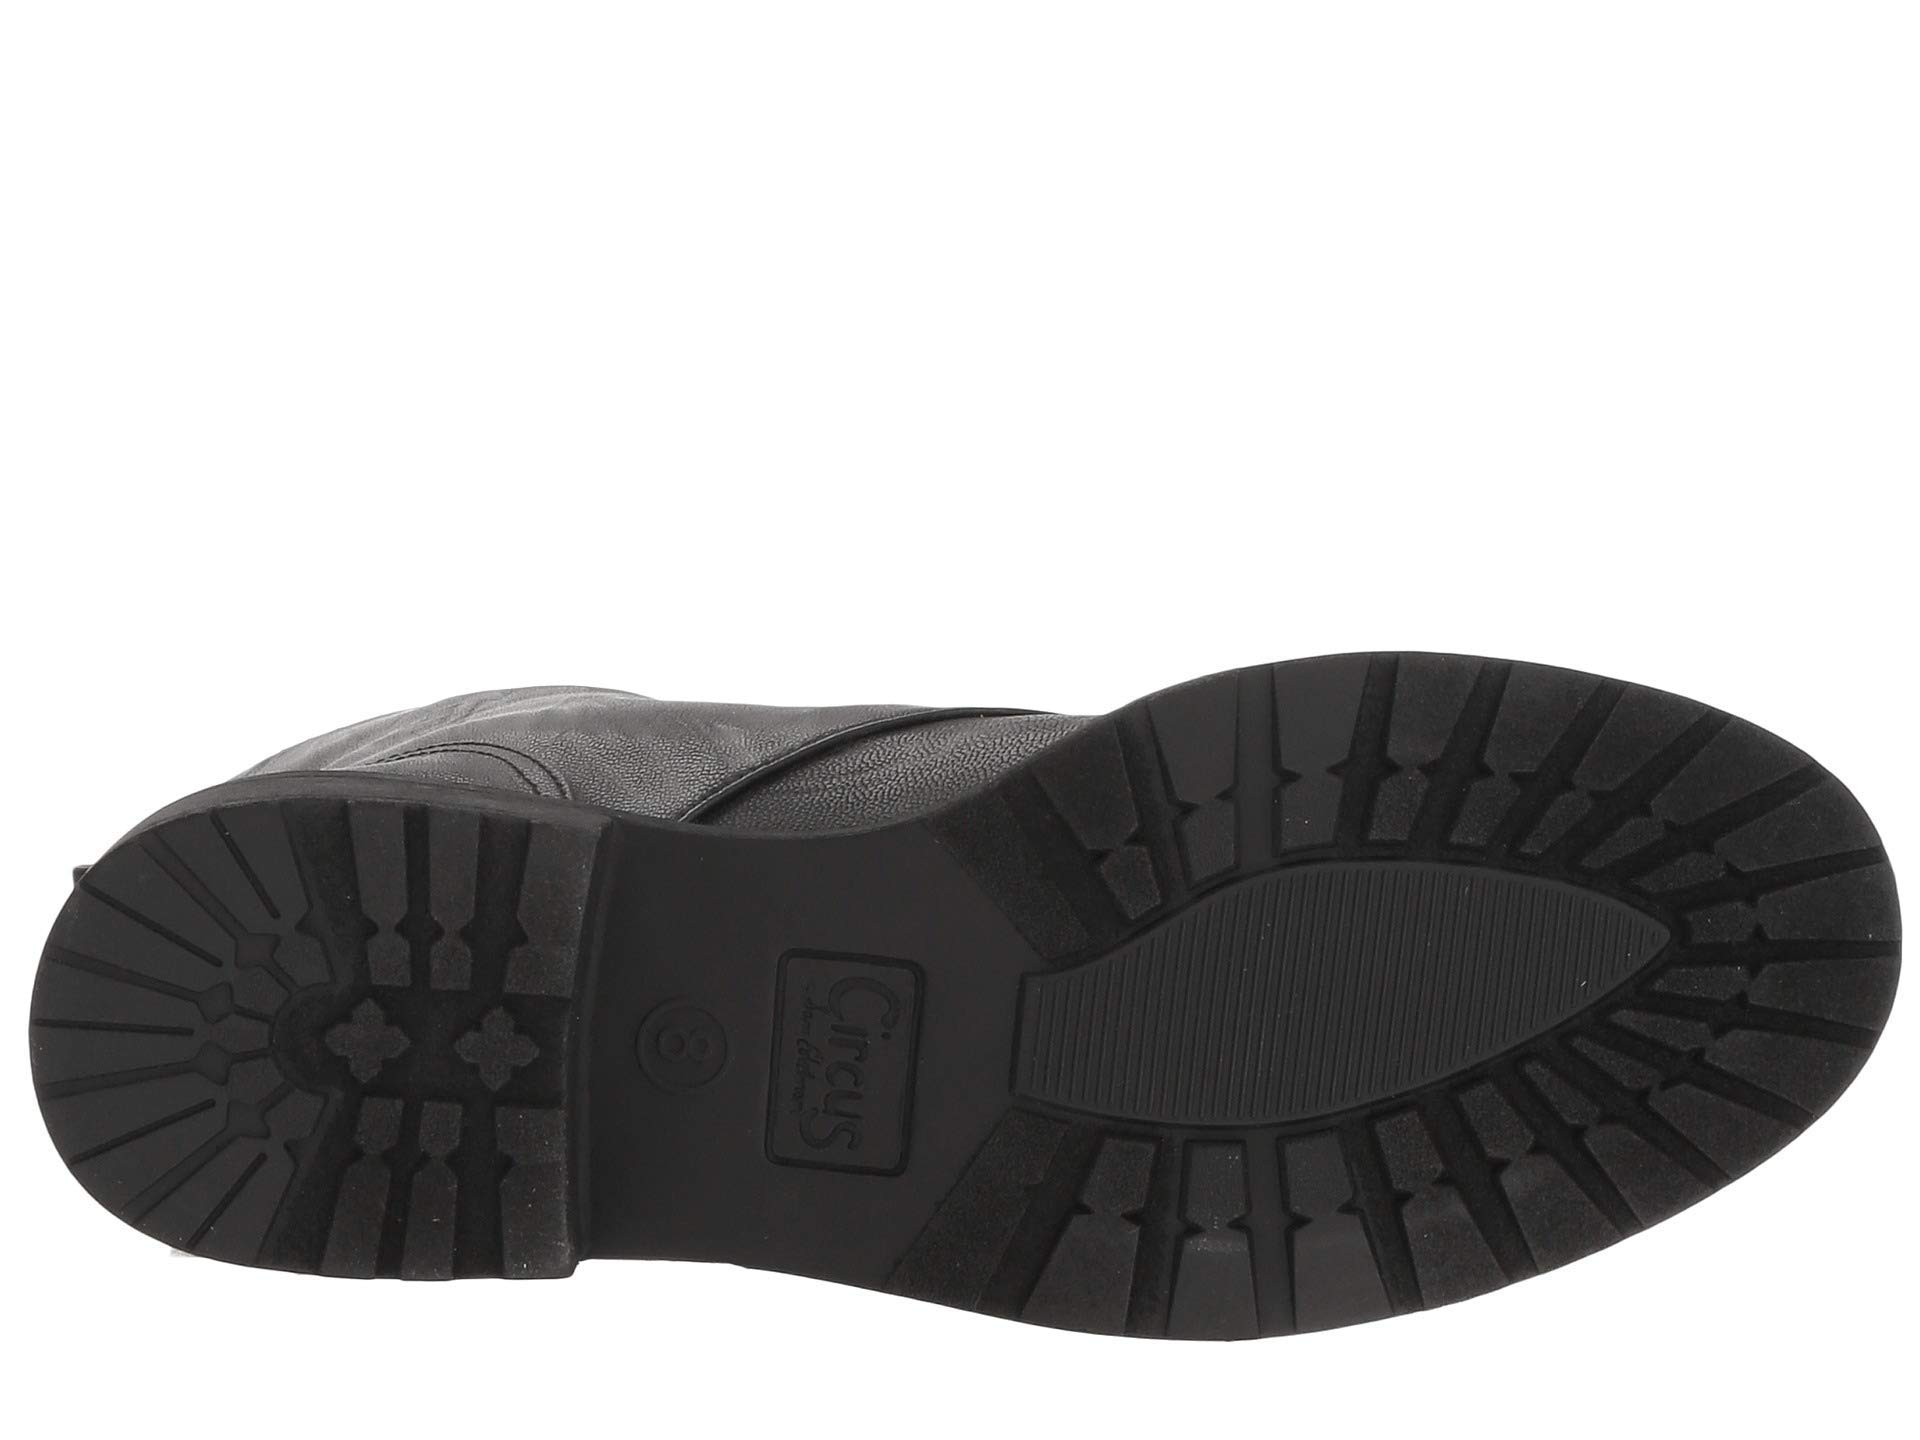circle: (621, 976, 739, 1107)
line: (1126, 908, 1581, 1026), (30, 954, 218, 1172)
quad: (754, 927, 933, 1203)
star: (314, 989, 559, 1103)
text: (754, 927, 933, 1203), (621, 976, 739, 1107)
